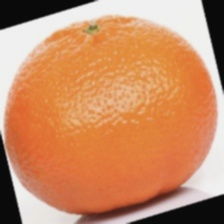orange: (4, 51, 198, 203)
